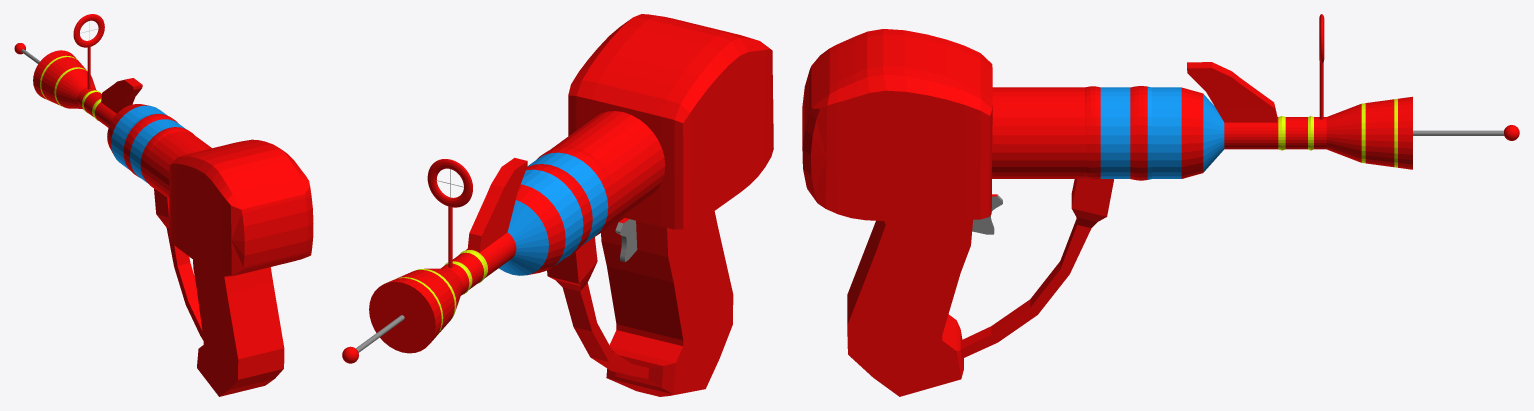
Rendered from Raygun.fbx.
3 renders of one model, left to right at view 1: azimuth 30°, elevation 25°; view 2: azimuth 150°, elevation 25°; view 3: azimuth 270°, elevation 25°, orthographic. The views are drawn at different scales.
Visible parts, largest first — view 1: Sphere; view 2: Sphere; view 3: Sphere.
Boxes of the visible parts, <box> form: Sphere: <box>14,14,313,396</box>; Sphere: <box>342,14,773,396</box>; Sphere: <box>802,14,1519,396</box>.
Bounding box in the file's own units: 90.96 × 280 × 496.
